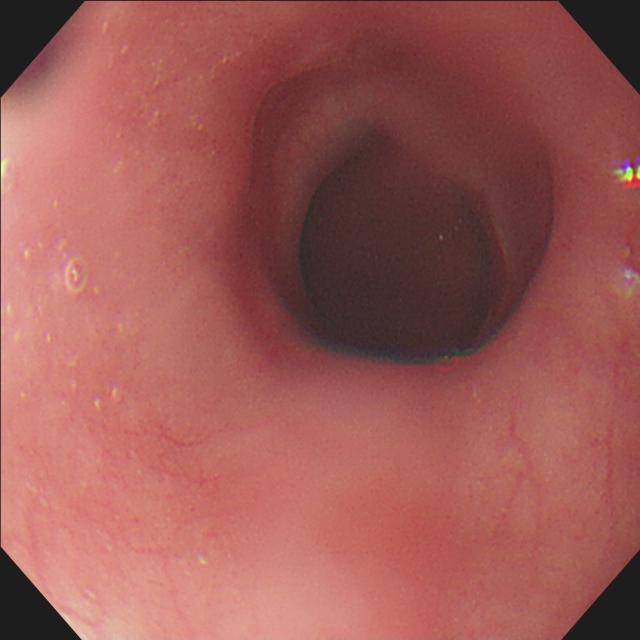E: (383, 135, 640, 418)
T: (84, 293, 122, 340)
